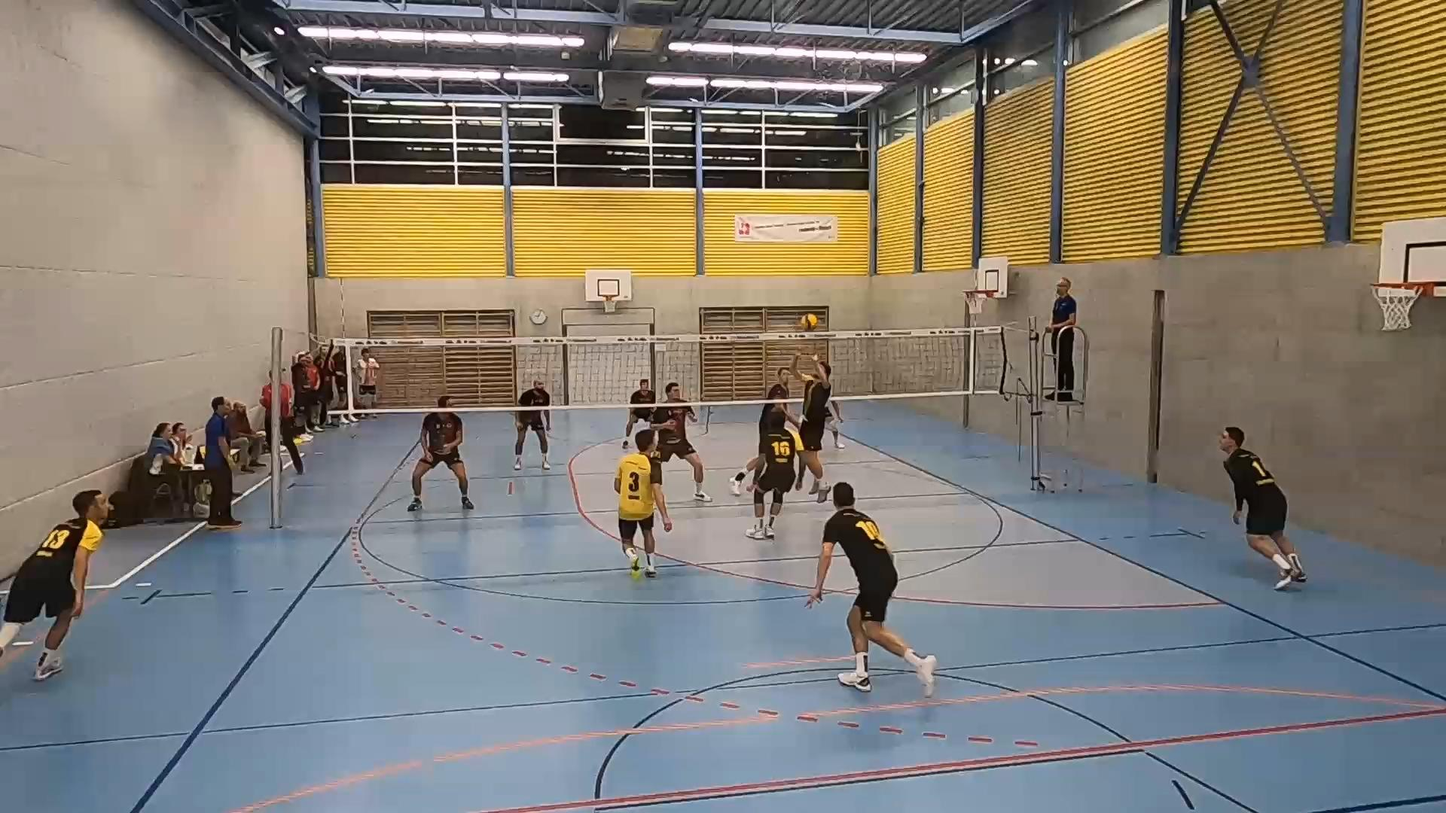alzata: (788, 352, 843, 509)
